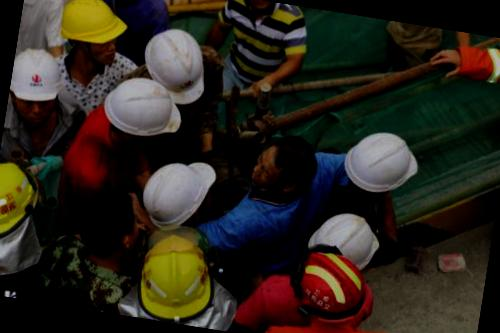no_helmet: (64, 181, 146, 270), (243, 127, 322, 201)
